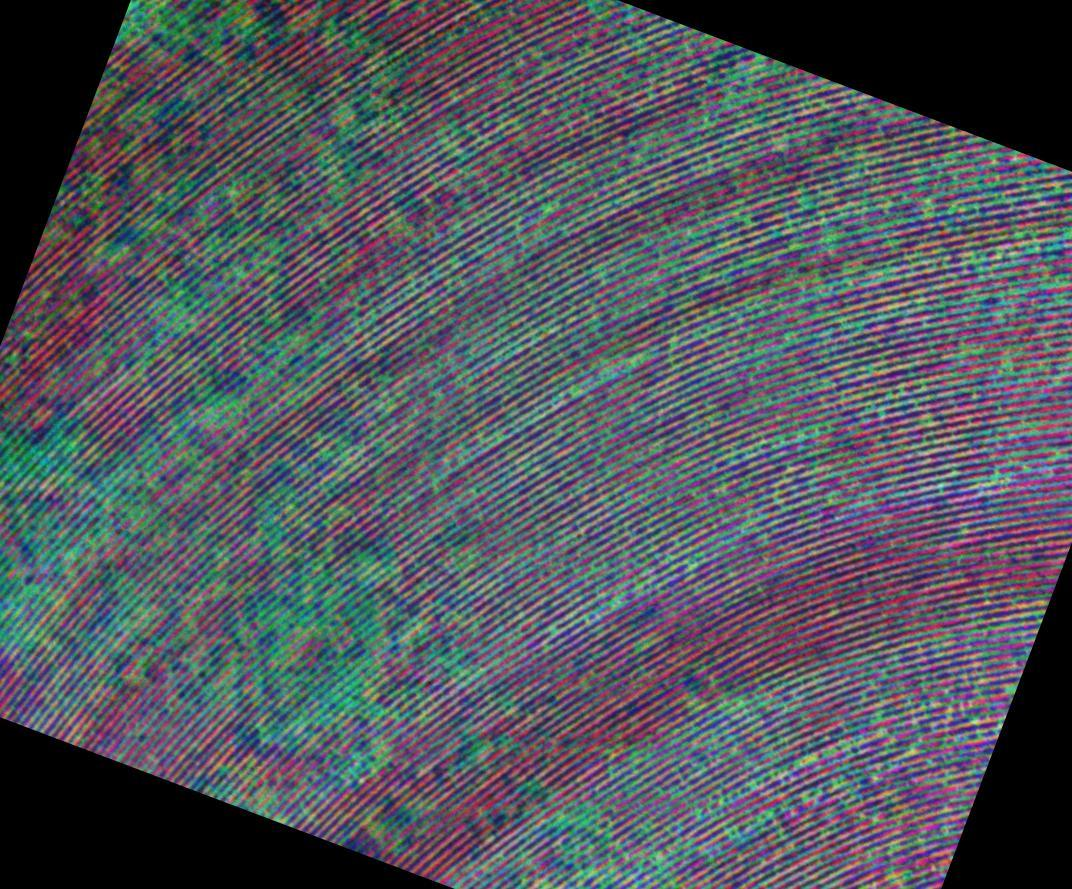dc: (244, 486, 395, 774), (0, 416, 146, 657), (511, 806, 690, 889), (137, 222, 275, 326), (125, 0, 261, 77)
